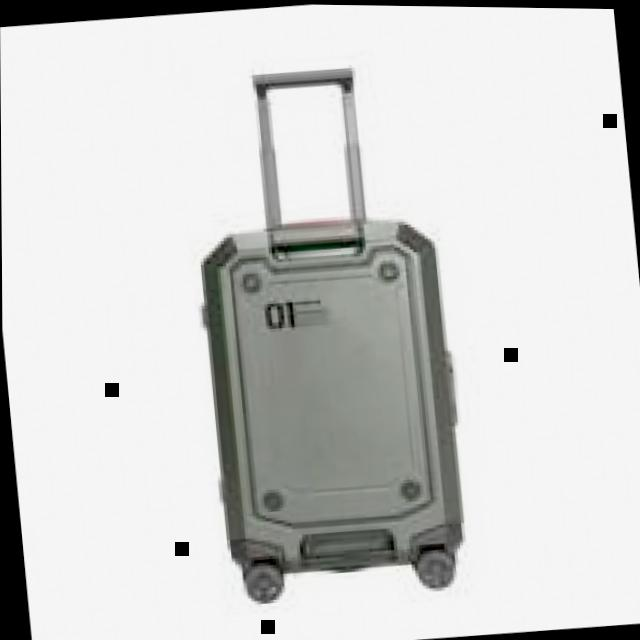luggage: (186, 201, 473, 584)
